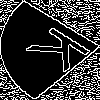K: (25, 25, 100, 80)
